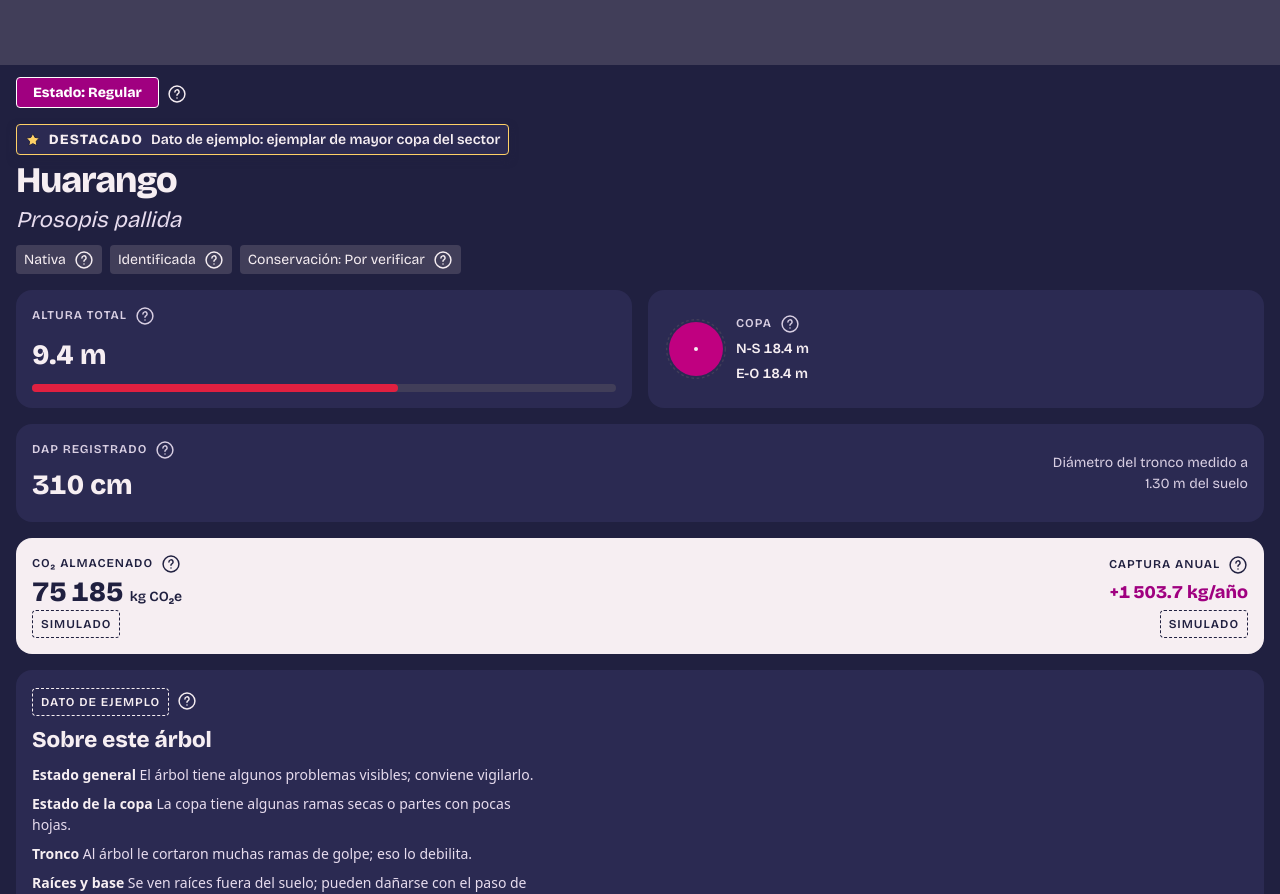
it: CartillaArbol › cápsulas «?» y «Sobre este árbol» › abrir una cápsula dentro de la cartilla muestra lo que dice la API
(page scrolled)
What coordinates should you click on to do the following:
click the button named "Qué significa DAP"
I would click on:
 (165, 450)
Its box is [143, 428, 187, 472].
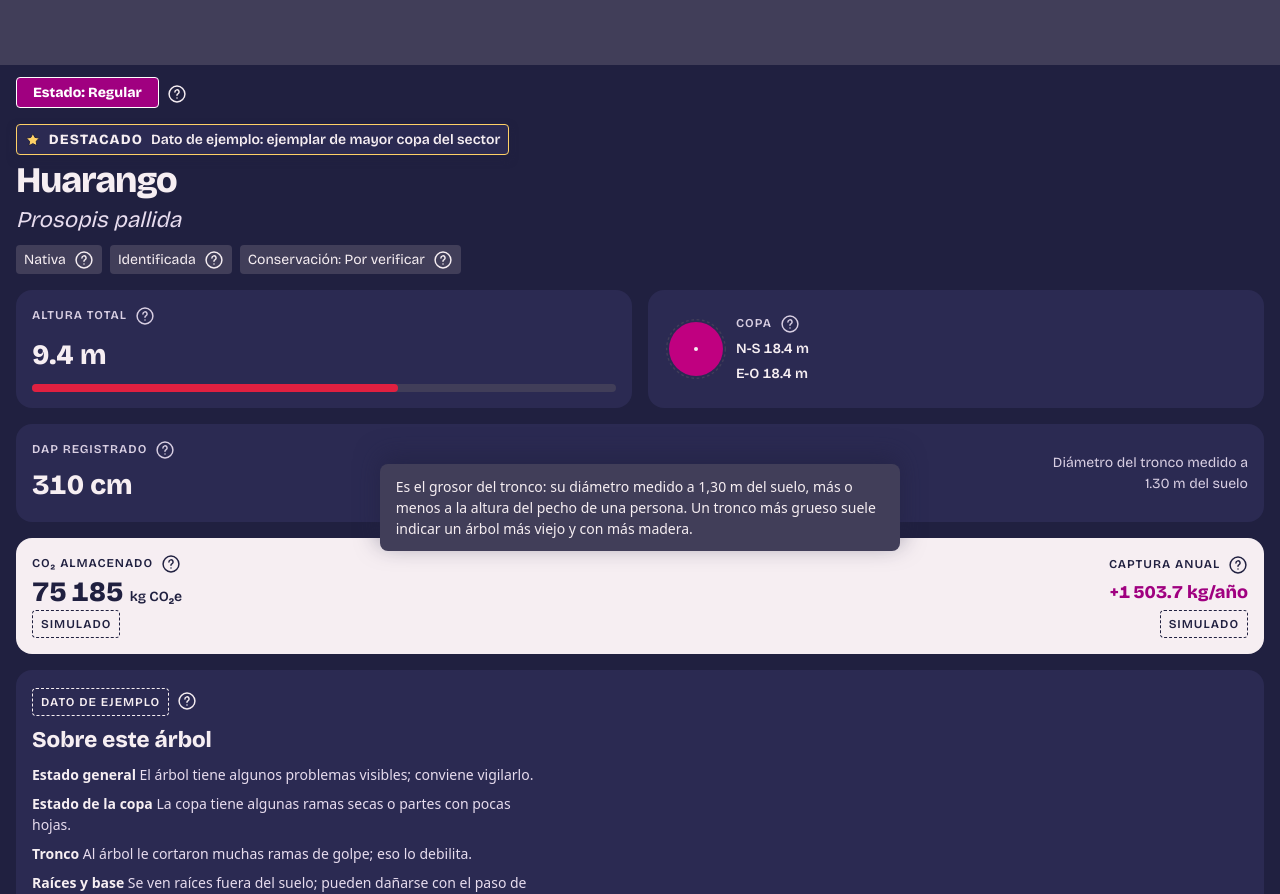
Expected: the text "Es el grosor del tronco: su diámetro medido a 1,30 m del suelo, más o menos a la altura del pecho de una persona. Un tro" is shown, [396, 477, 876, 538]
